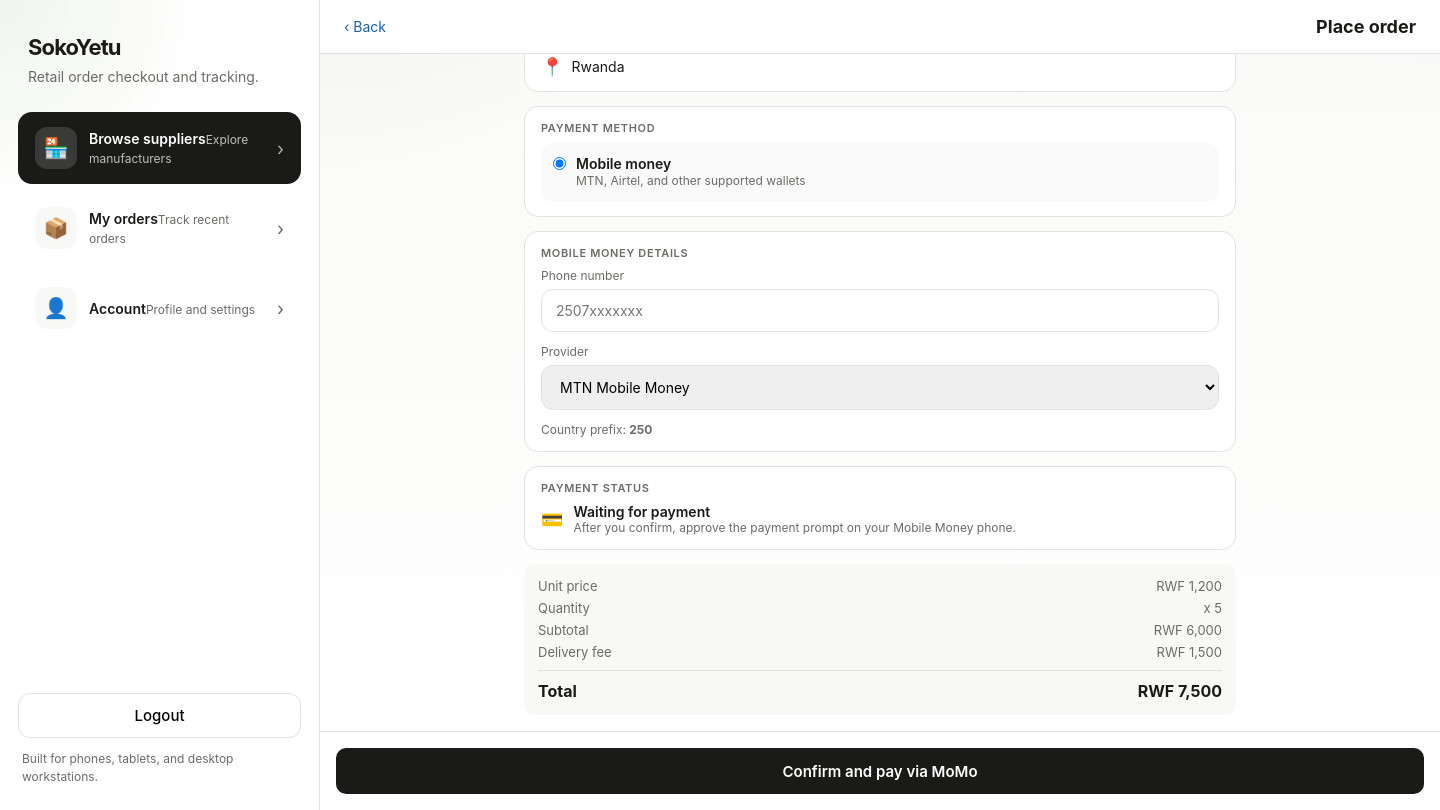
placing the order › refuses to continue without a phone number
The image size is (1440, 810).
(page scrolled)
Click the button "Confirm and pay via MoMo" at (880, 771), box [336,748,1424,794]
(page scrolled)
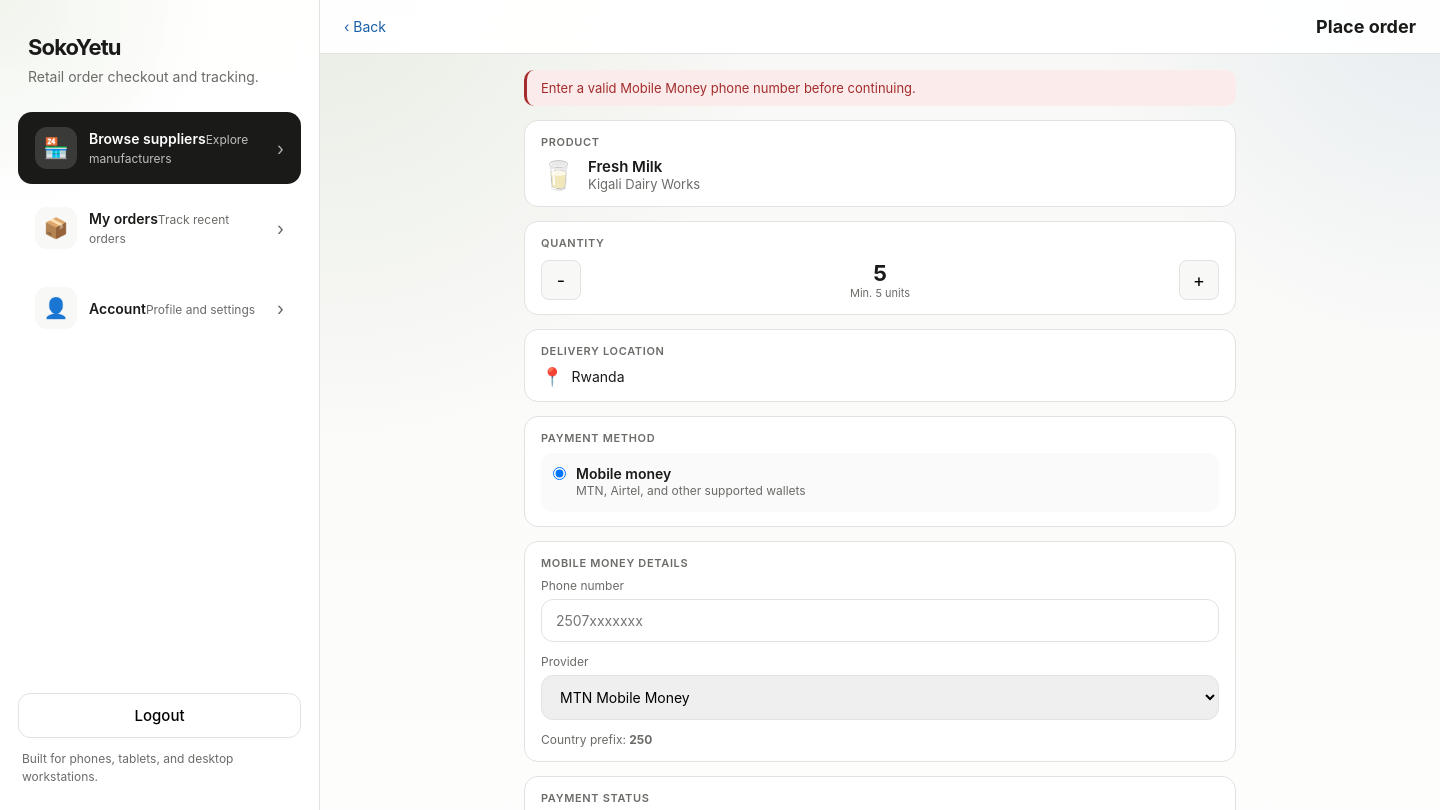
Check: the text "Enter a valid Mobile Money phone number before continuing." is shown, box [524,70,1236,106]
